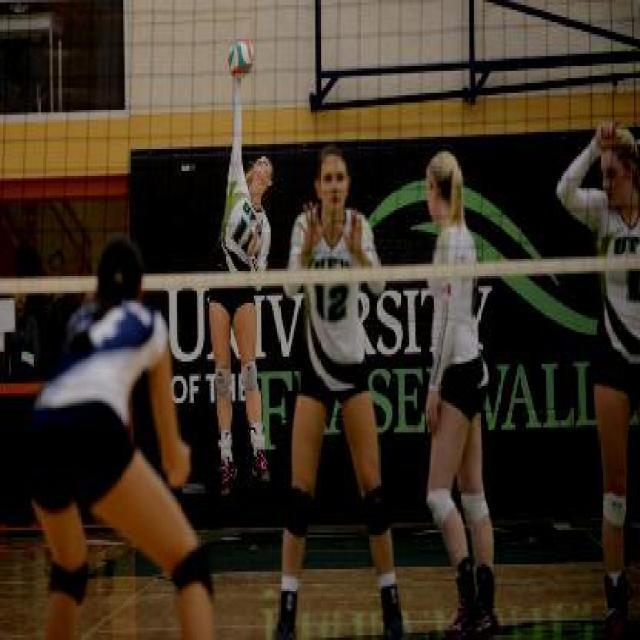volleyball: (225, 36, 252, 74)
